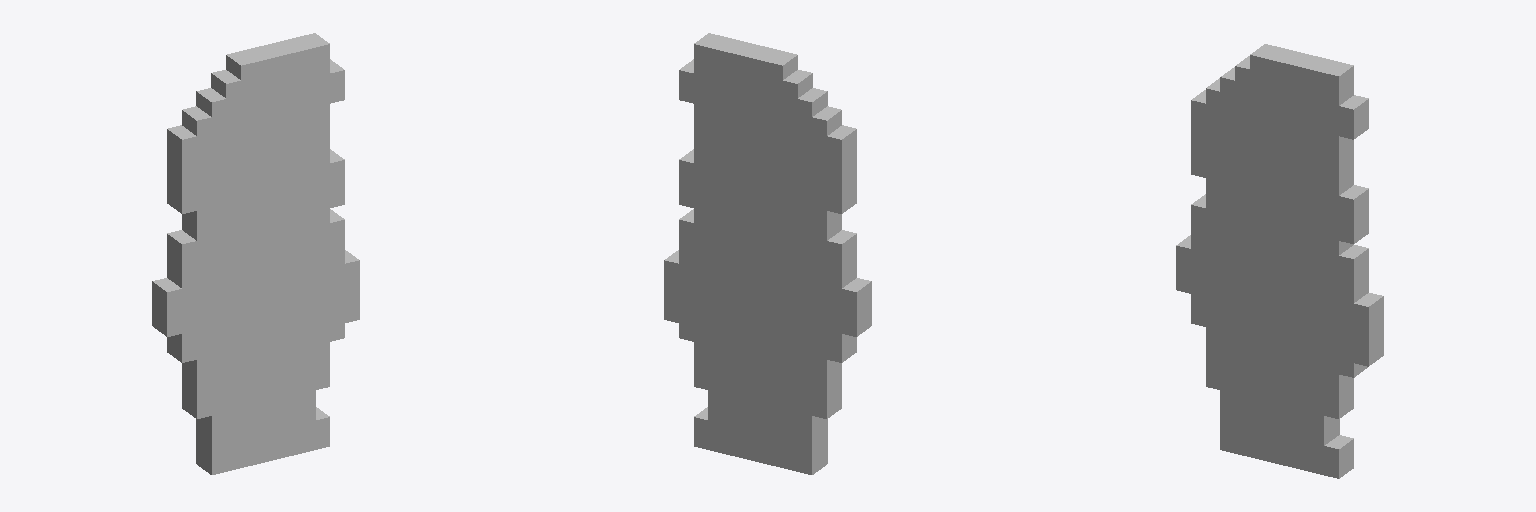
The model's file is sombra.obj.
3 views of the same model, side by side, from view 1: azimuth 30°, elevation 25°; view 2: azimuth 150°, elevation 25°; view 3: azimuth 330°, elevation 25° (orthographic).
Visible parts, largest first — view 1: Curve_CUCurve; view 2: Curve_CUCurve; view 3: Curve_CUCurve.
Part boxes in pixels (left/top/right/bottom): Curve_CUCurve: left=152, top=33, right=359, bottom=474; Curve_CUCurve: left=664, top=33, right=871, bottom=474; Curve_CUCurve: left=1176, top=44, right=1383, bottom=478.
Bounding box in the file's own units: 0.0847 × 0.1693 × 0.0116.